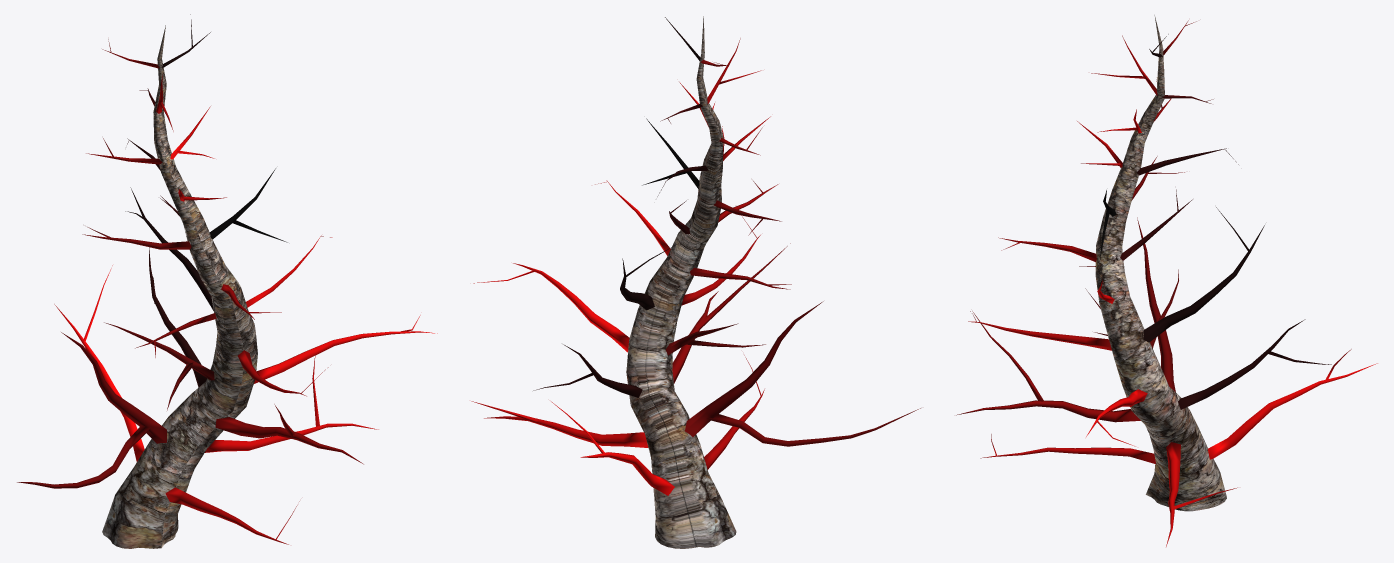
The model's file is Tree1 1.fbx.
3 renders of one model, left to right at view 1: azimuth 30°, elevation 25°; view 2: azimuth 150°, elevation 25°; view 3: azimuth 270°, elevation 25°, orthographic. The views are drawn at different scales.
Visible parts, largest first — view 1: polySurface1; view 2: polySurface1; view 3: polySurface1.
Part boxes in pixels (<box>): polySurface1: <box>17,14,437,548</box>; polySurface1: <box>471,16,920,548</box>; polySurface1: <box>956,15,1377,546</box>.
Size of the model in its own units: 1712 by 1938 by 1545.
